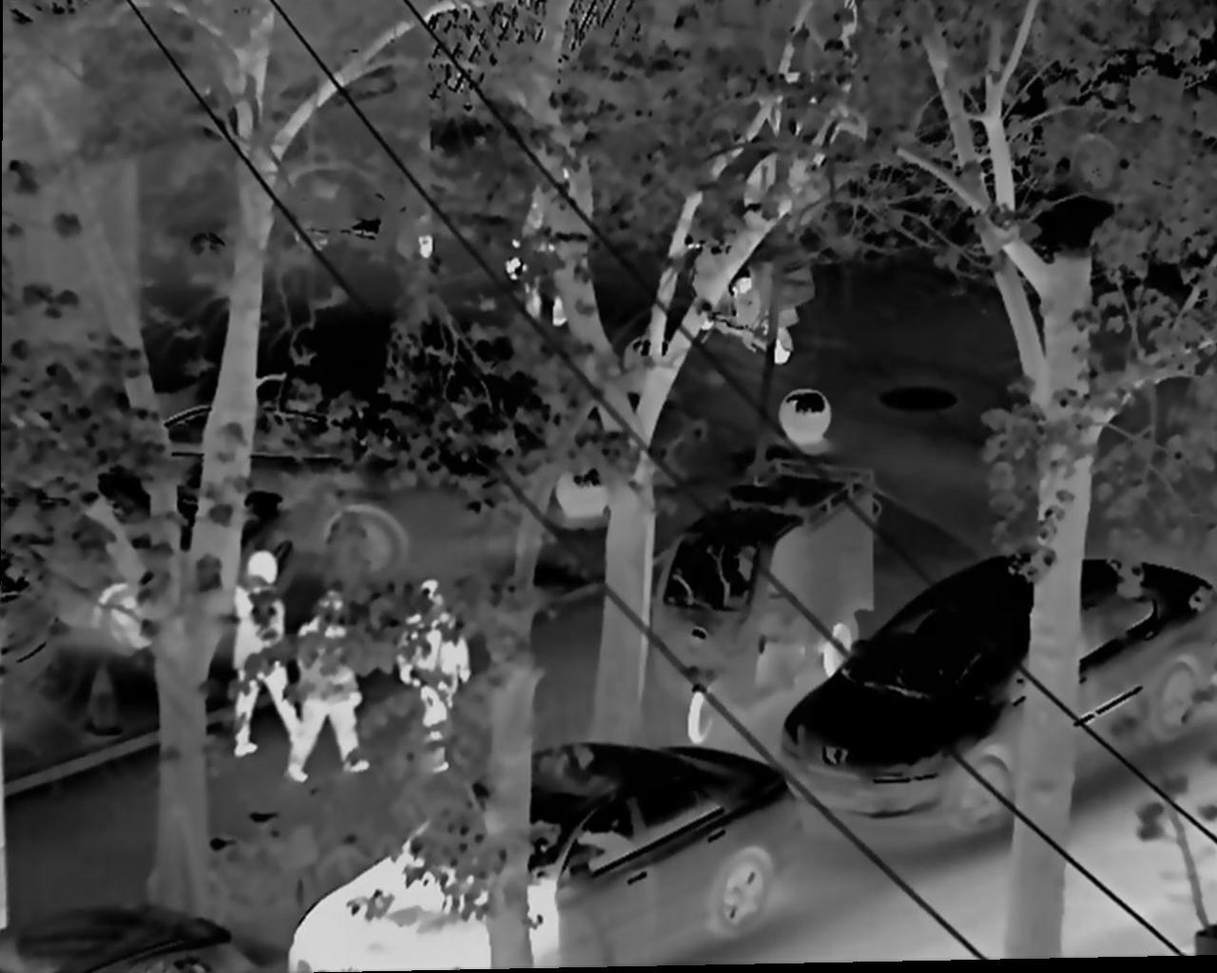person: (228, 547, 314, 771), (286, 597, 376, 775), (389, 579, 467, 777)
